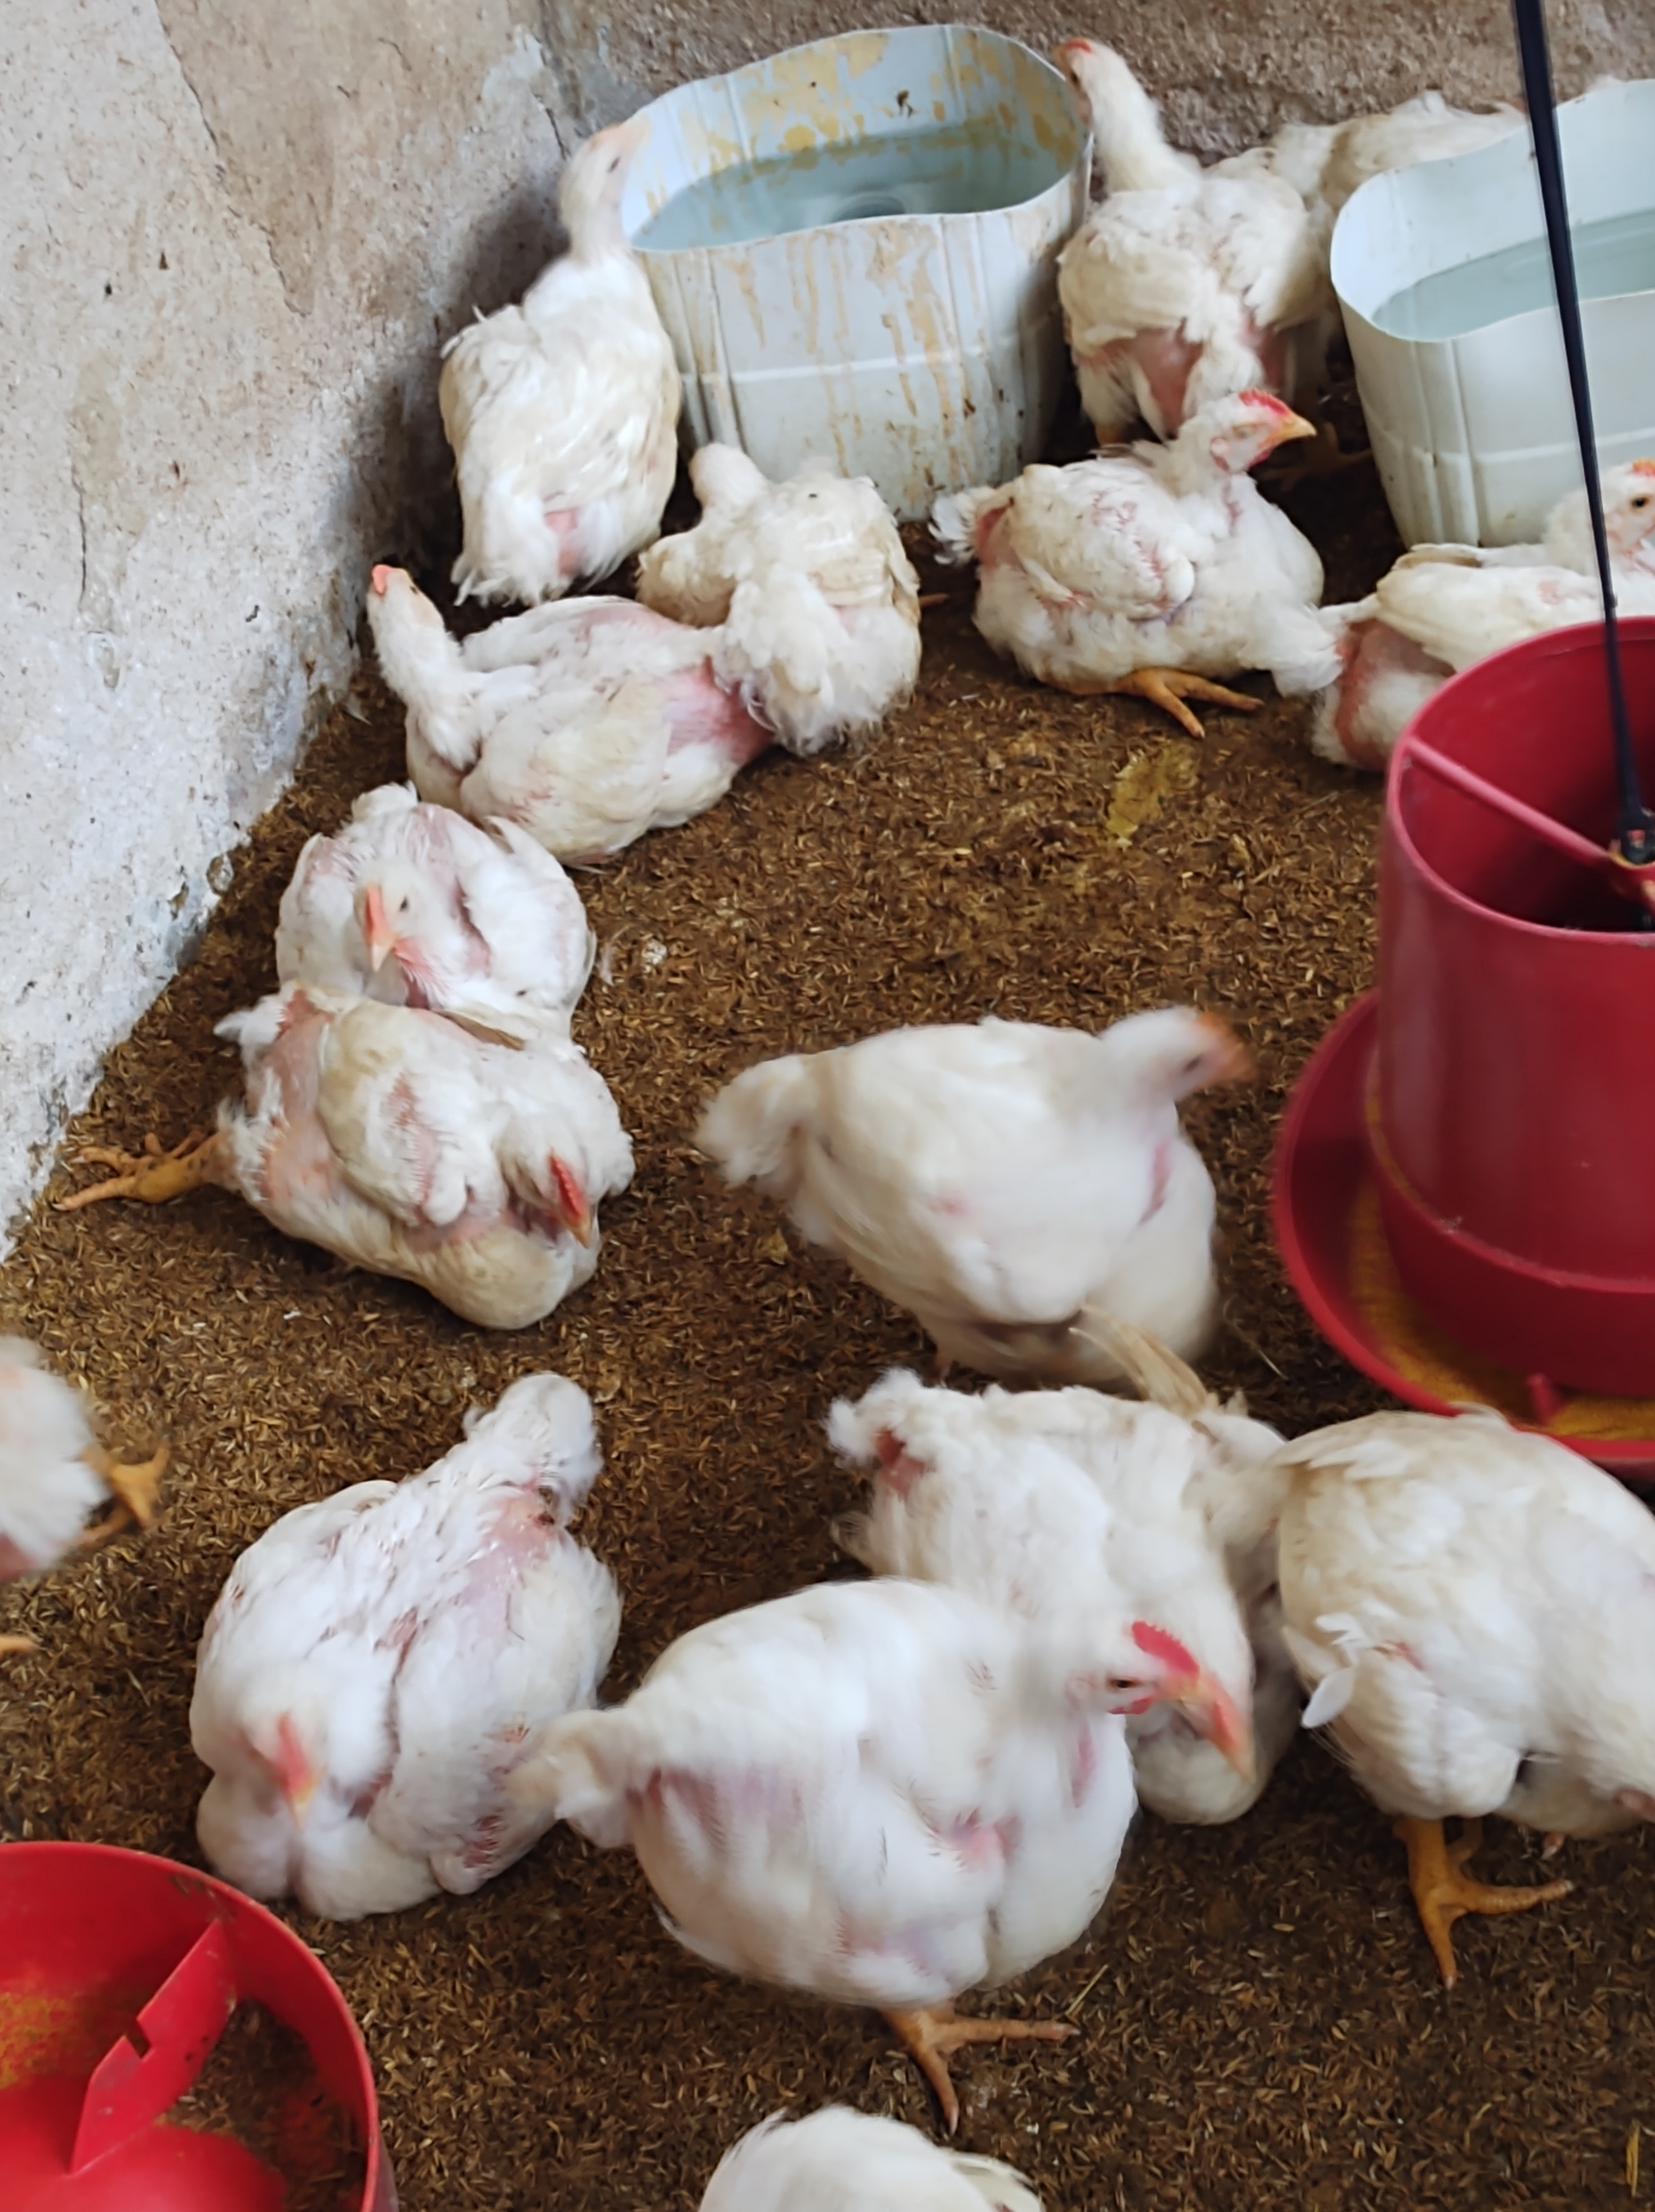Pollos: (1288, 1344, 1655, 1984), (163, 1369, 595, 1892), (721, 927, 1253, 1339), (605, 1591, 1182, 1935), (80, 1014, 657, 1301), (974, 379, 1356, 748), (421, 106, 692, 553), (256, 762, 605, 1049), (1012, 30, 1278, 393), (313, 558, 711, 800), (1380, 436, 1652, 776), (662, 426, 944, 751), (0, 1276, 188, 1602), (711, 2057, 1071, 2212), (1120, 1650, 1332, 1805)
